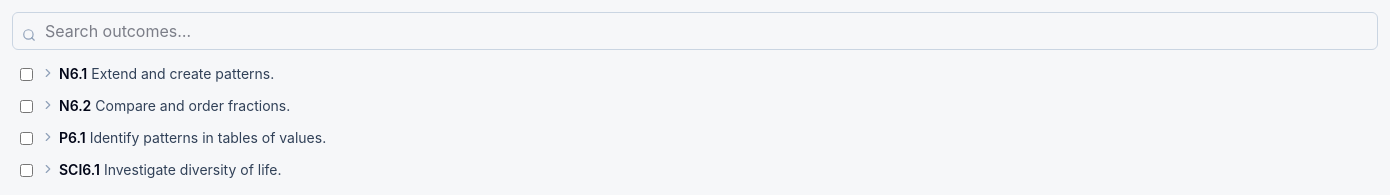
Scenario: OutcomePicker › filters by subject too
In the field with placeholder "Search outcomes…": (695, 31) [12, 12, 1378, 50], type "science"
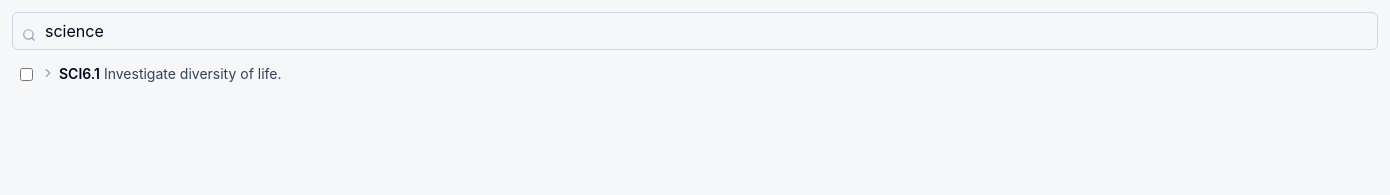
Expected: the text "SCI6.1" is shown, [59, 65, 100, 82]
Now the button "N6.1" is gone
